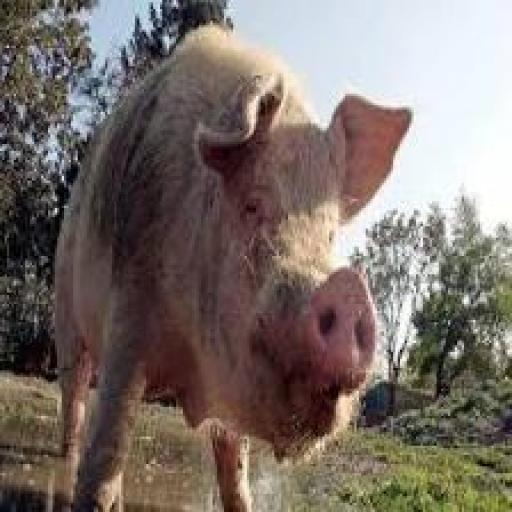Pig: (48, 16, 417, 511)
